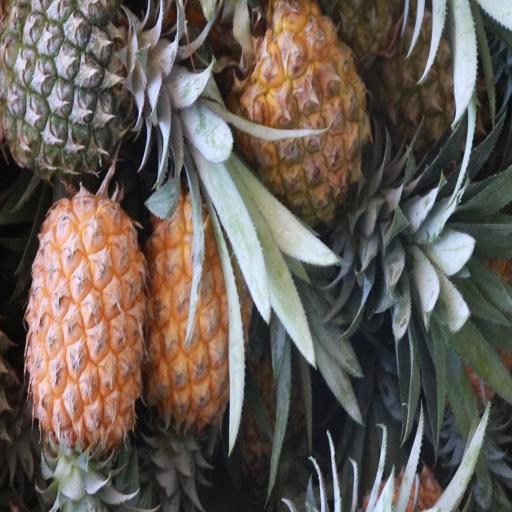------------------------------: (372, 0, 474, 160)
Pineapple - v8 v1: (29, 192, 144, 453), (235, 0, 367, 217), (147, 183, 245, 417)
